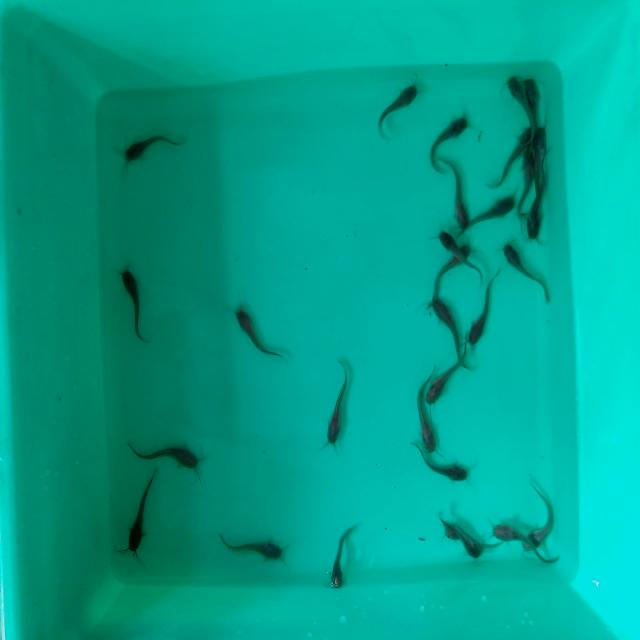lele: (117, 124, 192, 164), (326, 358, 354, 450), (427, 113, 473, 166), (237, 306, 279, 361), (126, 442, 200, 473), (524, 480, 554, 556), (506, 248, 548, 302), (118, 264, 146, 344), (126, 474, 152, 560), (372, 84, 418, 132), (492, 126, 528, 186), (221, 536, 285, 566), (428, 296, 461, 352), (469, 286, 497, 352), (418, 458, 472, 492), (326, 532, 356, 592), (425, 358, 455, 412), (444, 167, 470, 225), (532, 126, 554, 194), (514, 156, 534, 224), (464, 536, 501, 570), (434, 254, 469, 288), (478, 196, 515, 228), (507, 72, 528, 126), (416, 412, 440, 458), (428, 513, 462, 545), (528, 76, 548, 128), (492, 520, 526, 548), (526, 196, 546, 243), (438, 230, 476, 254)
